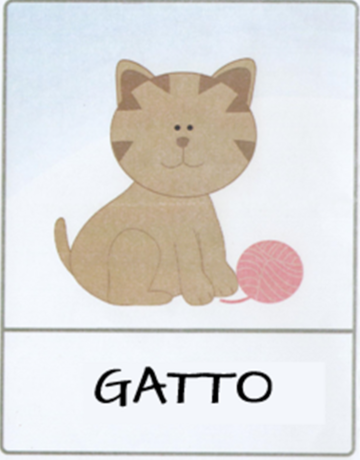gatto: (12, 10, 349, 433)
